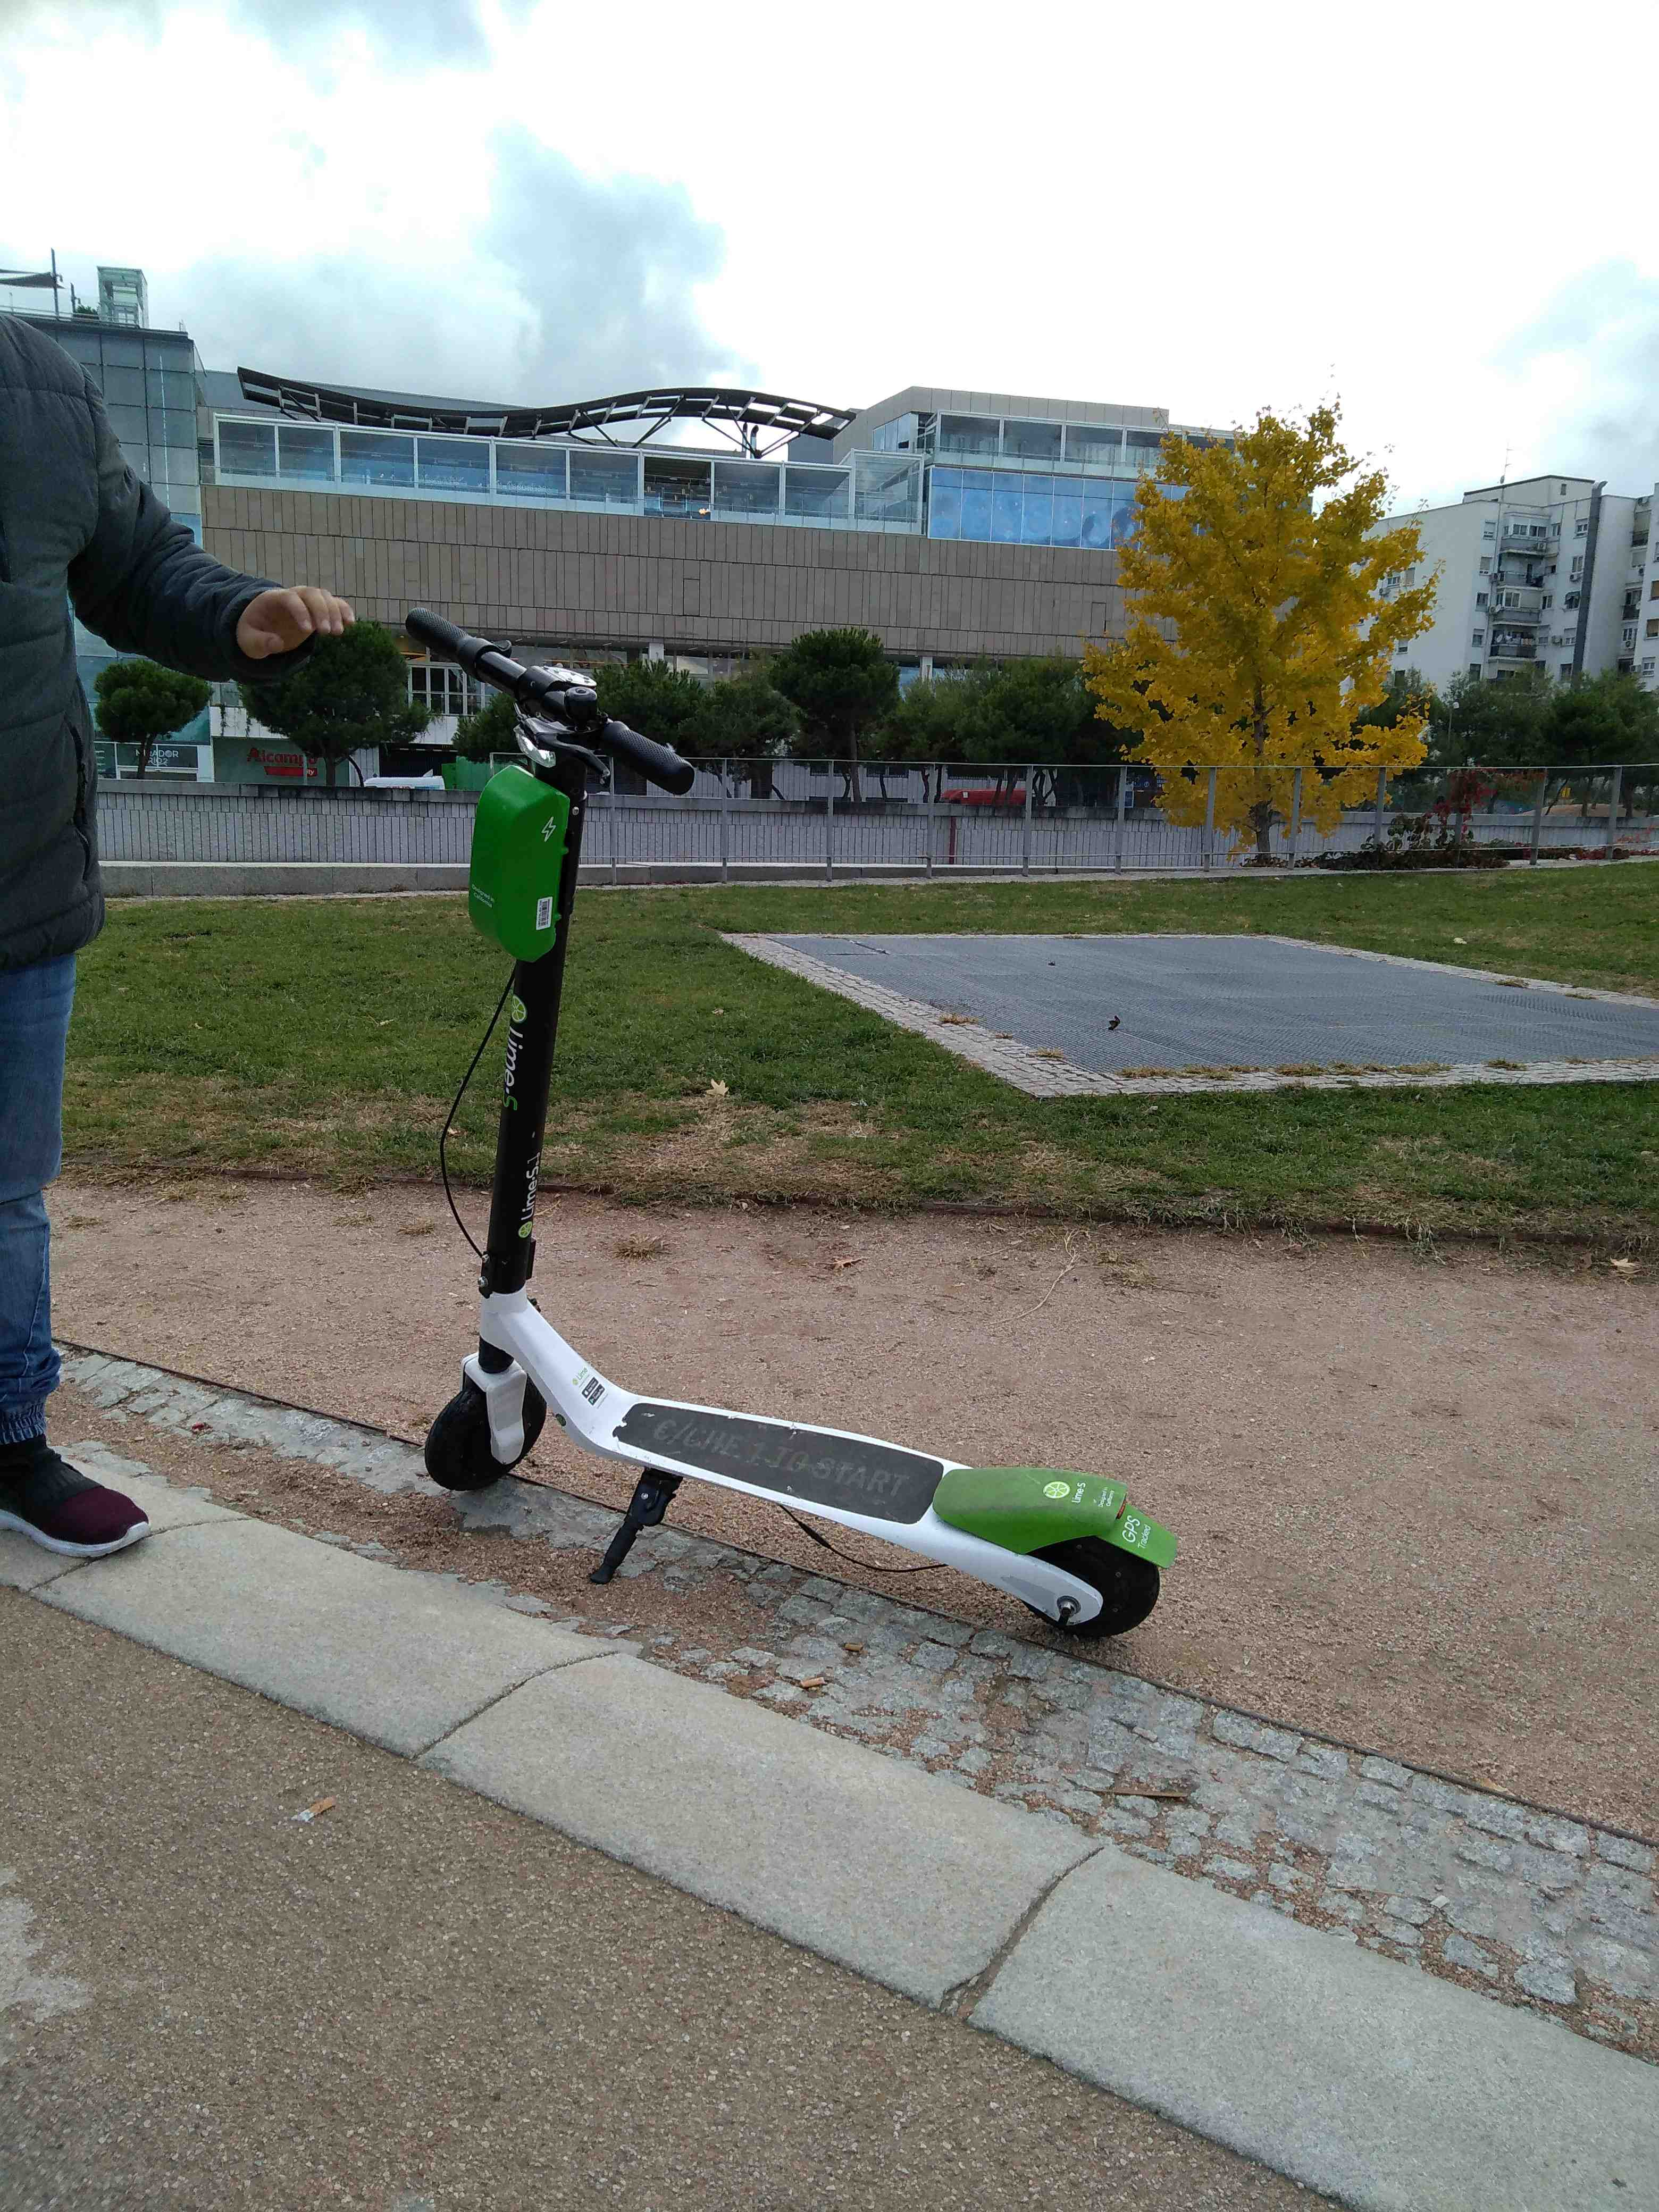scooter: (355, 629, 1190, 1665)
